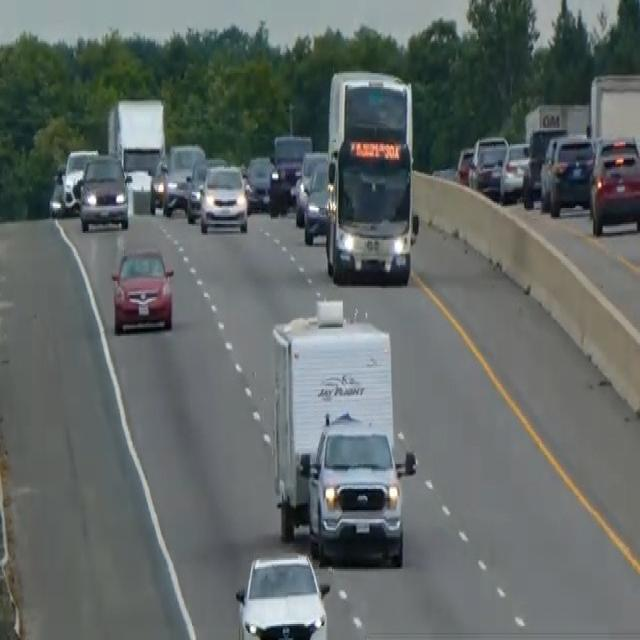bus: (322, 66, 419, 286)
car: (234, 550, 331, 638), (110, 244, 175, 334), (588, 135, 639, 235), (539, 132, 595, 215), (78, 151, 129, 231), (521, 125, 567, 206), (199, 162, 248, 234), (162, 140, 205, 217), (271, 130, 312, 202), (185, 155, 226, 222), (60, 148, 98, 214), (294, 149, 327, 224), (467, 133, 507, 194), (303, 158, 330, 245), (499, 138, 531, 202), (245, 153, 275, 211), (148, 154, 168, 212), (48, 164, 67, 218), (454, 144, 474, 185)
truck: (268, 295, 417, 564)
